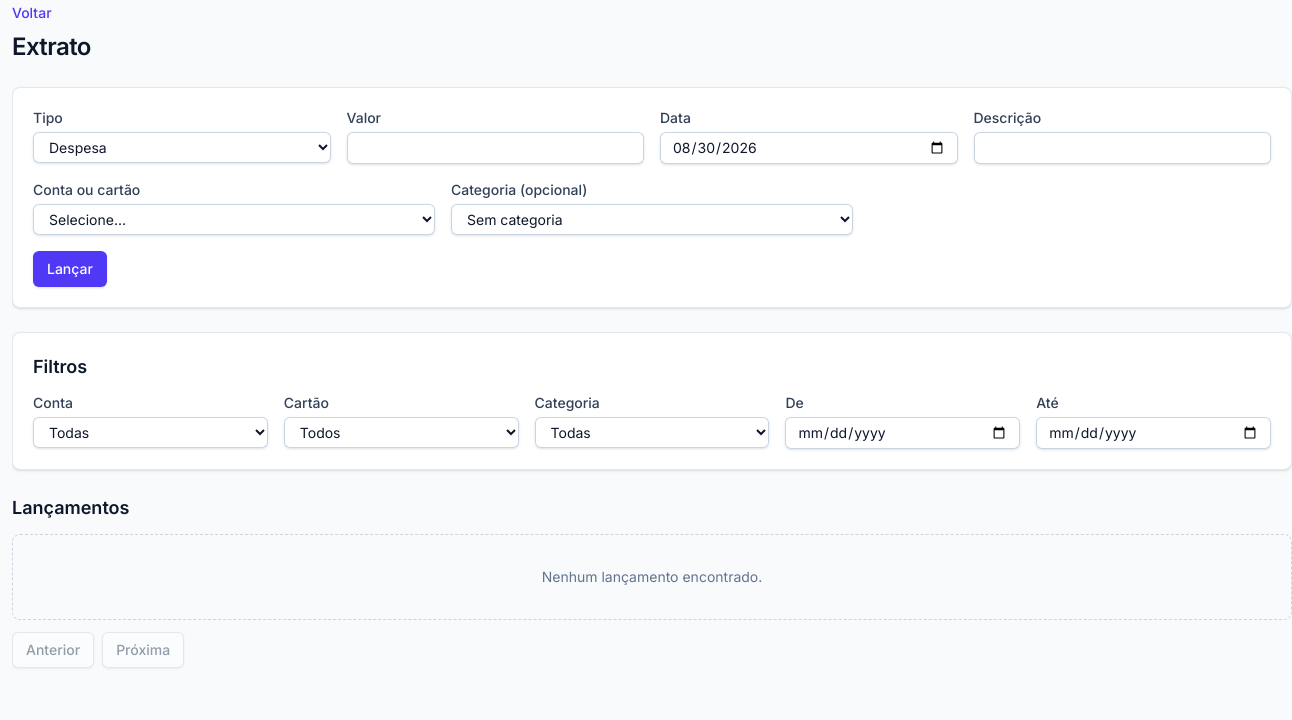
Test: TransactionsPage › creates a transaction and lists it in the extrato
Type "50" into the number field labelled "Valor".
click(495, 148); type("50")  # box x1=346 y1=132 x2=644 y2=164
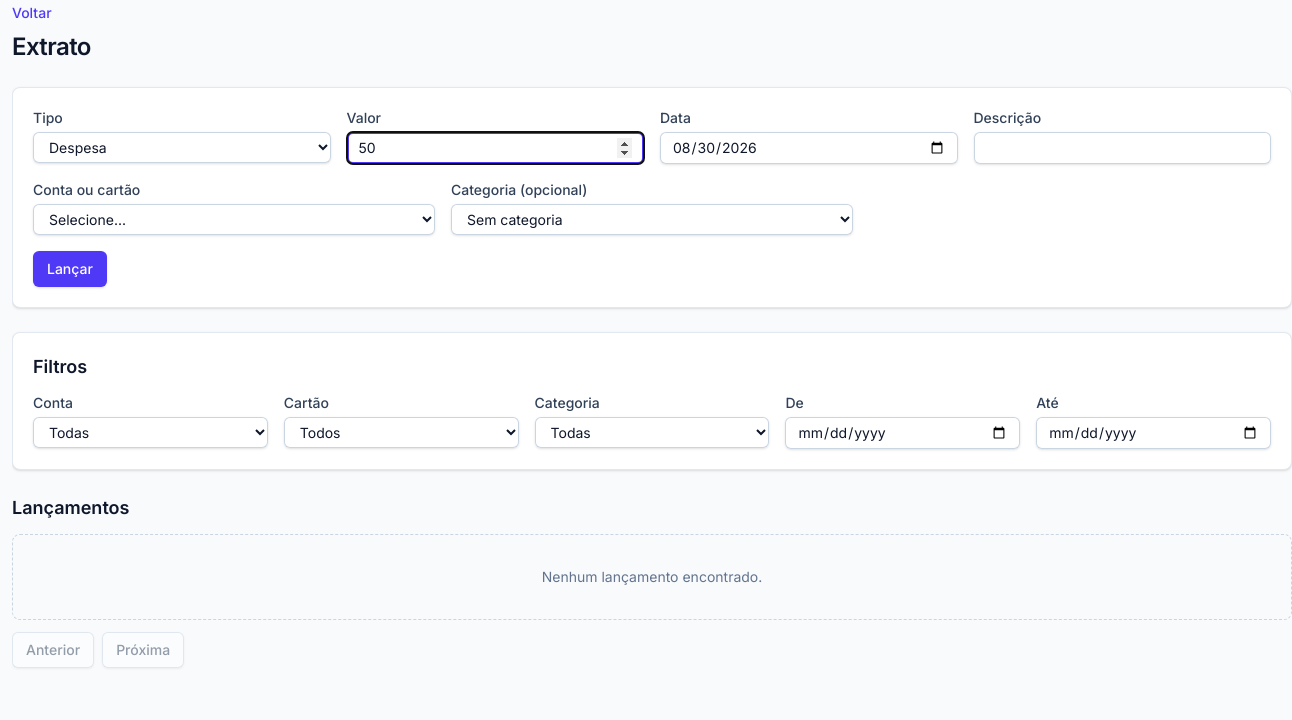
Type "Mercado" into the field labelled "Descrição".
click(1122, 148); type("Mercado")  # box x1=974 y1=132 x2=1271 y2=164
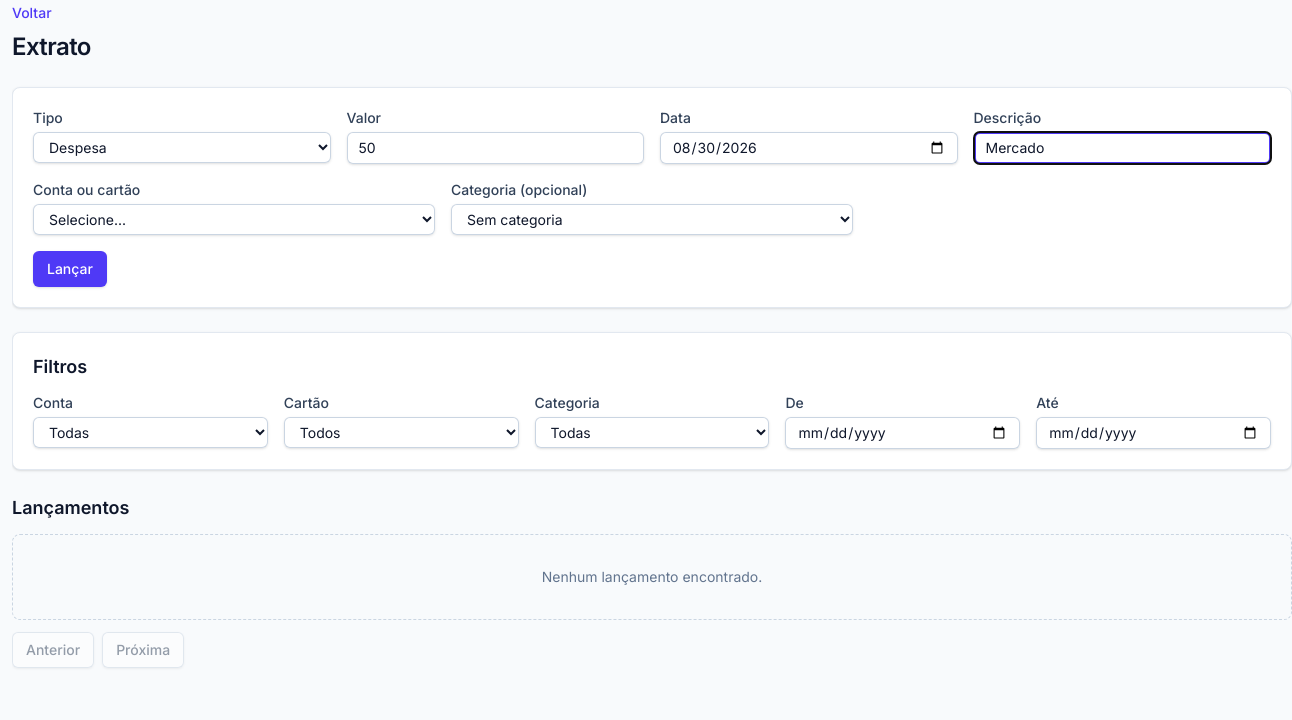
Select "Conta Extrato" in the dropdown labelled "Conta ou cartão" at {"x": 234, "y": 220}, box x1=33 y1=204 x2=435 y2=235
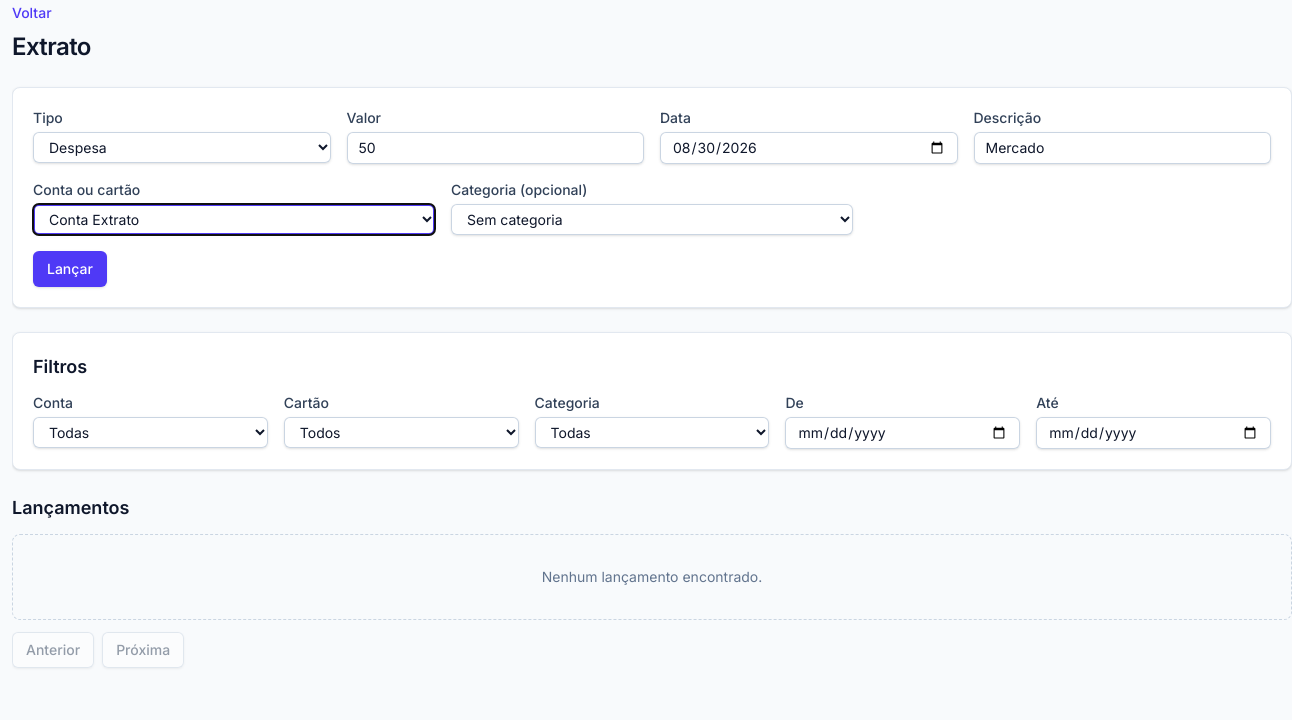
Click the button "Lançar".
click(70, 269)  # box x1=33 y1=251 x2=107 y2=287
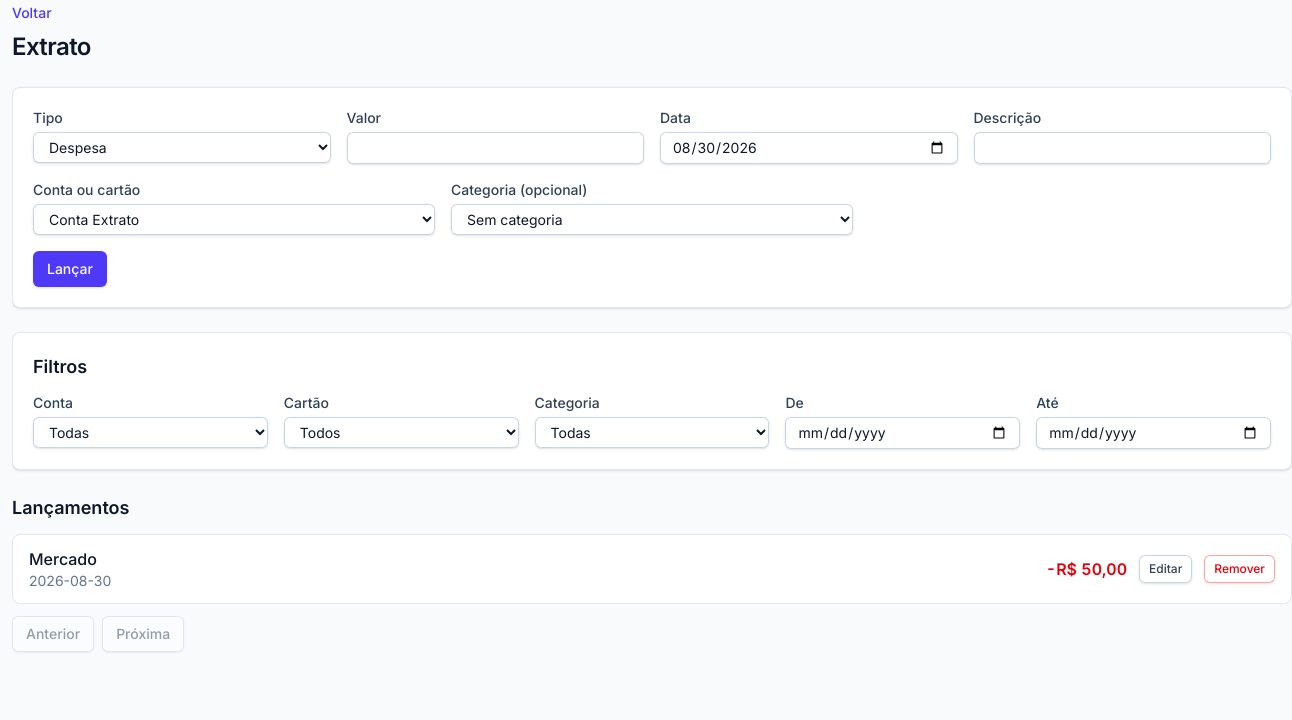
Now the text "Mercado" is shown, box x1=29 y1=549 x2=97 y2=569
